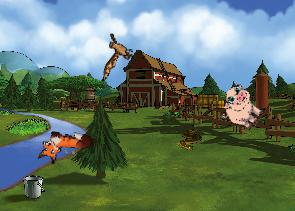eagle: (95, 30, 136, 81)
fox: (37, 127, 92, 168)
pig: (214, 80, 270, 135)
